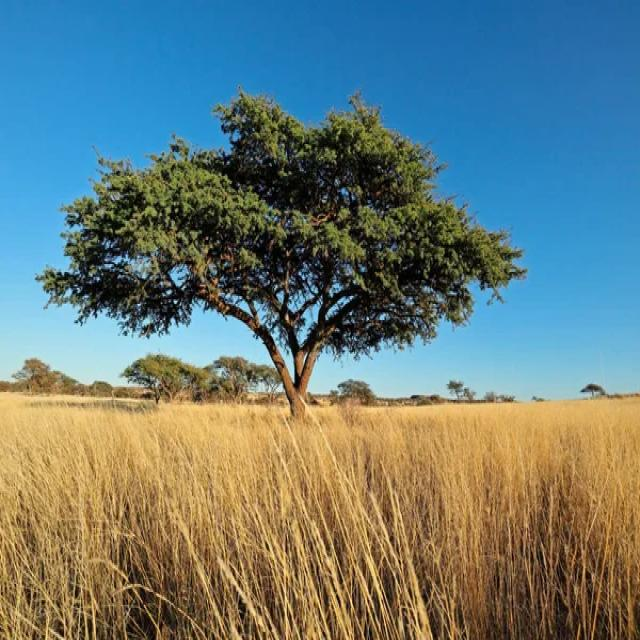Acacia: (38, 71, 516, 411)
